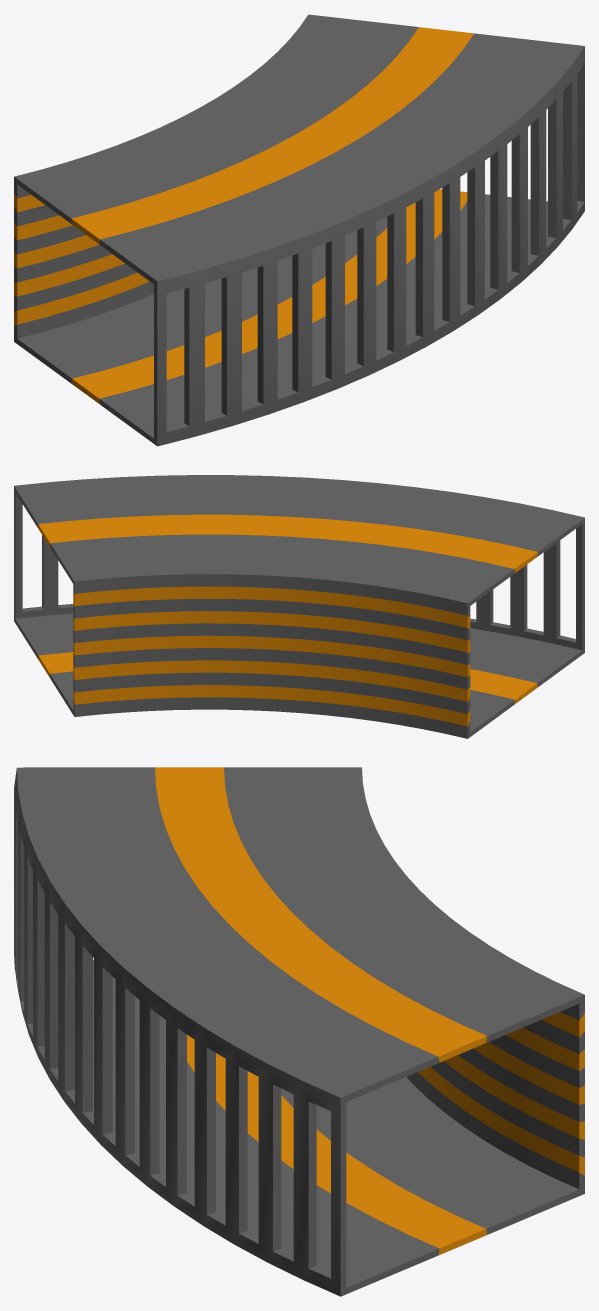
Rendered from Corridor-45-10.fbx.
3 renders of one model, top to bottom at view 1: azimuth 30°, elevation 25°; view 2: azimuth 150°, elevation 25°; view 3: azimuth 270°, elevation 25°, orthographic. The views are drawn at different scales.
Visible parts, largest first — view 1: Corridor-45-10; view 2: Corridor-45-10; view 3: Corridor-45-10.
Part boxes in pixels (box(x1,y1,x2,y2)): Corridor-45-10: box(14, 14, 584, 446); Corridor-45-10: box(14, 475, 584, 738); Corridor-45-10: box(14, 767, 584, 1296).
Size of the model in its own units: 712 by 200 by 520.
